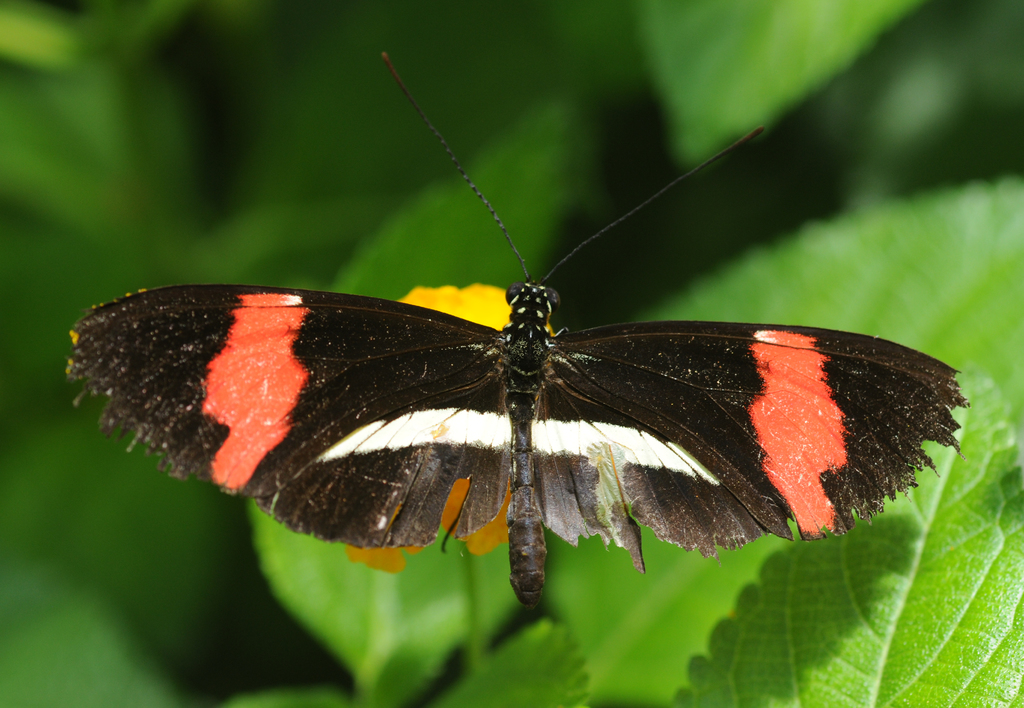Butterfly: (48, 244, 1006, 622)
